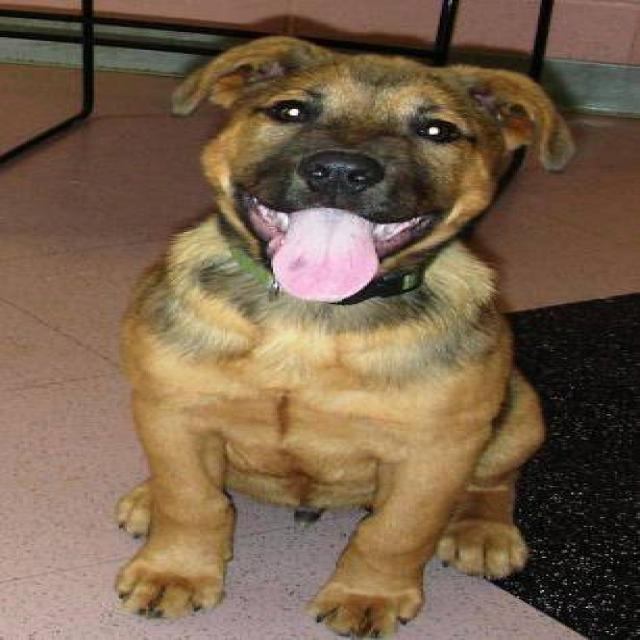dog: (110, 33, 576, 639)
